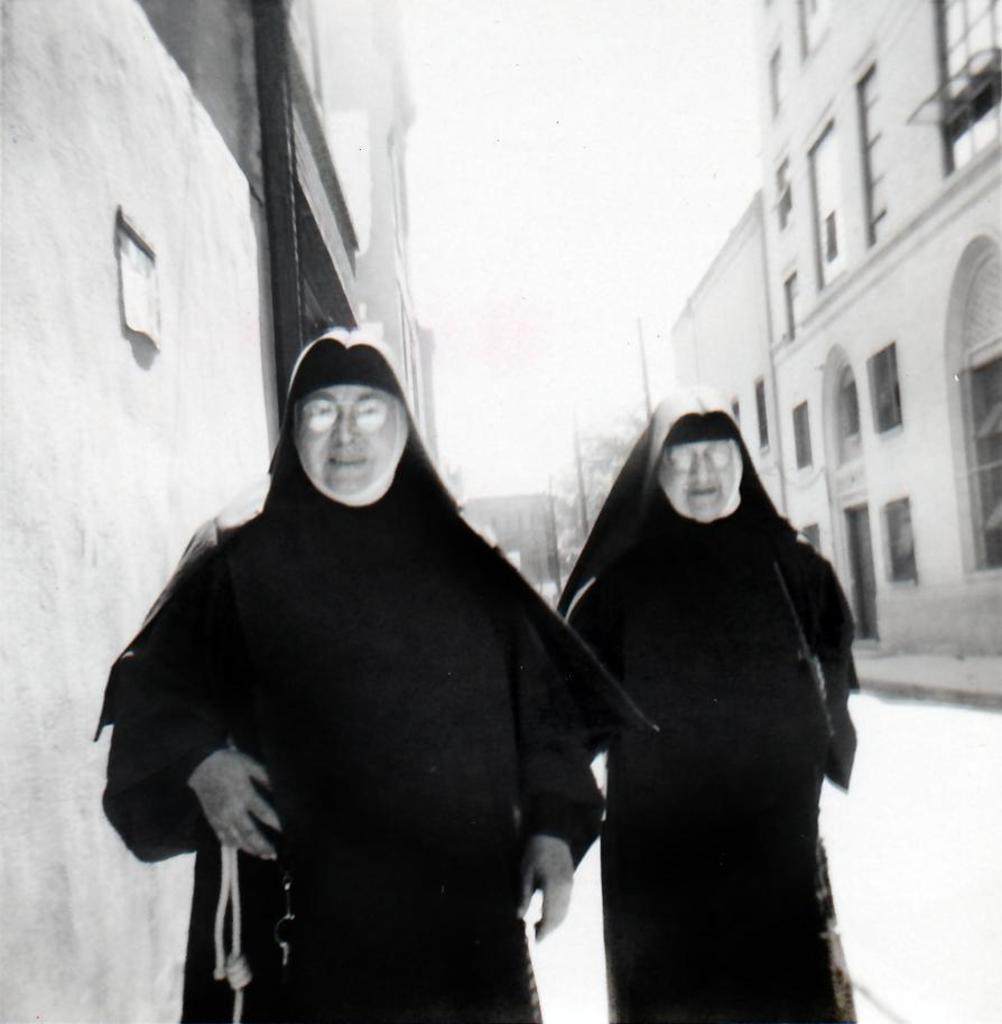face: (298, 360, 397, 504)
